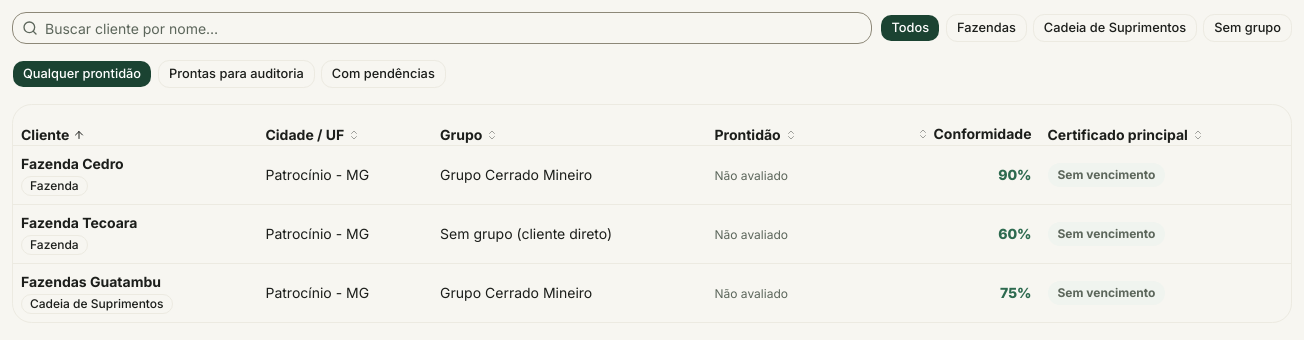
Test: ListaClientes › busca por nome ignorando maiúsculas e acentos
Step 1. Type "TECOARA" into the search field labelled "Buscar cliente por nome" → (442, 28), box 12,12 -> 872,44
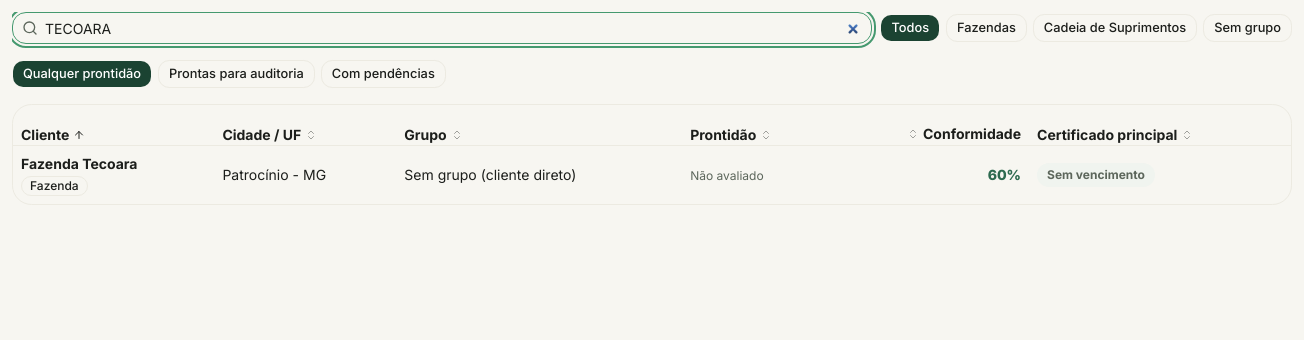
Check: the link "Fazenda Tecoara" is shown, box 21,154 -> 138,172
Check: the link "Fazenda Cedro" is gone
Check: the link "Fazendas Guatambu" is gone
